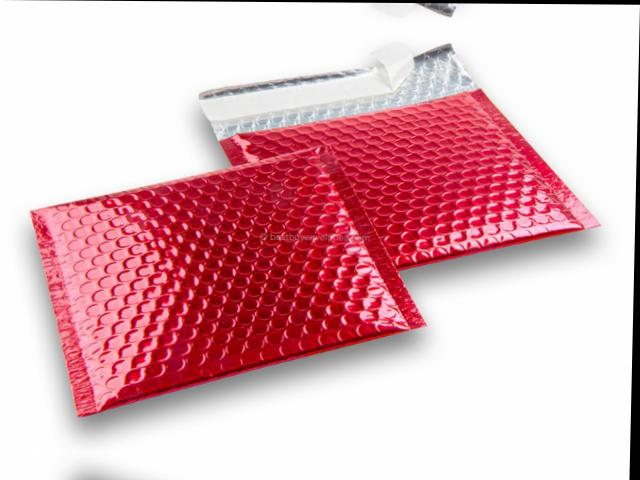package: (27, 141, 432, 417), (198, 40, 604, 277)
